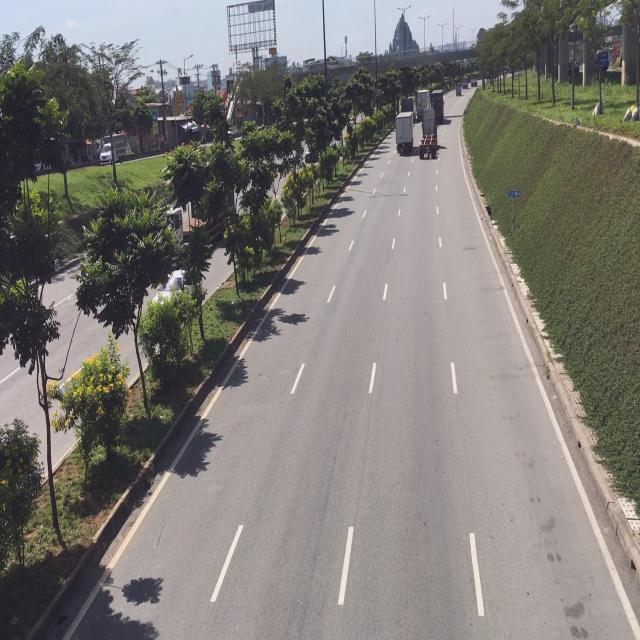truck: (417, 102, 440, 161), (397, 111, 416, 156)
